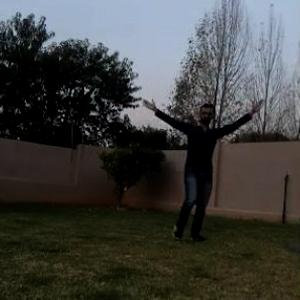takeoff: (136, 93, 270, 231)
